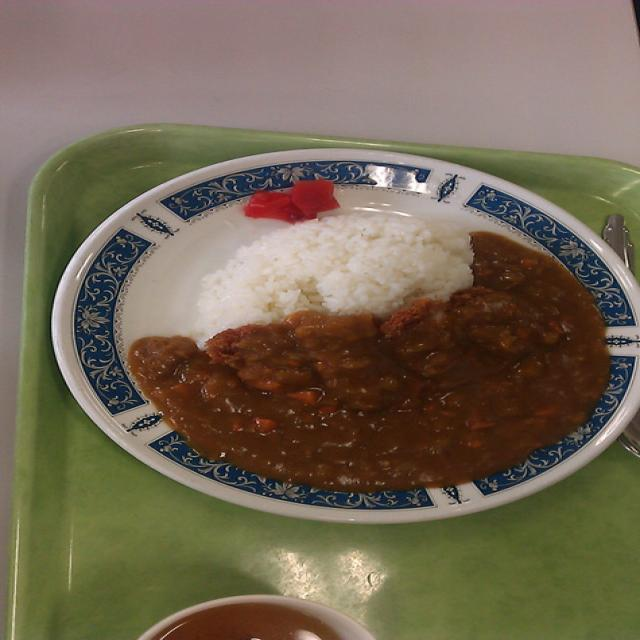Beef Curry: (132, 286, 625, 494)
